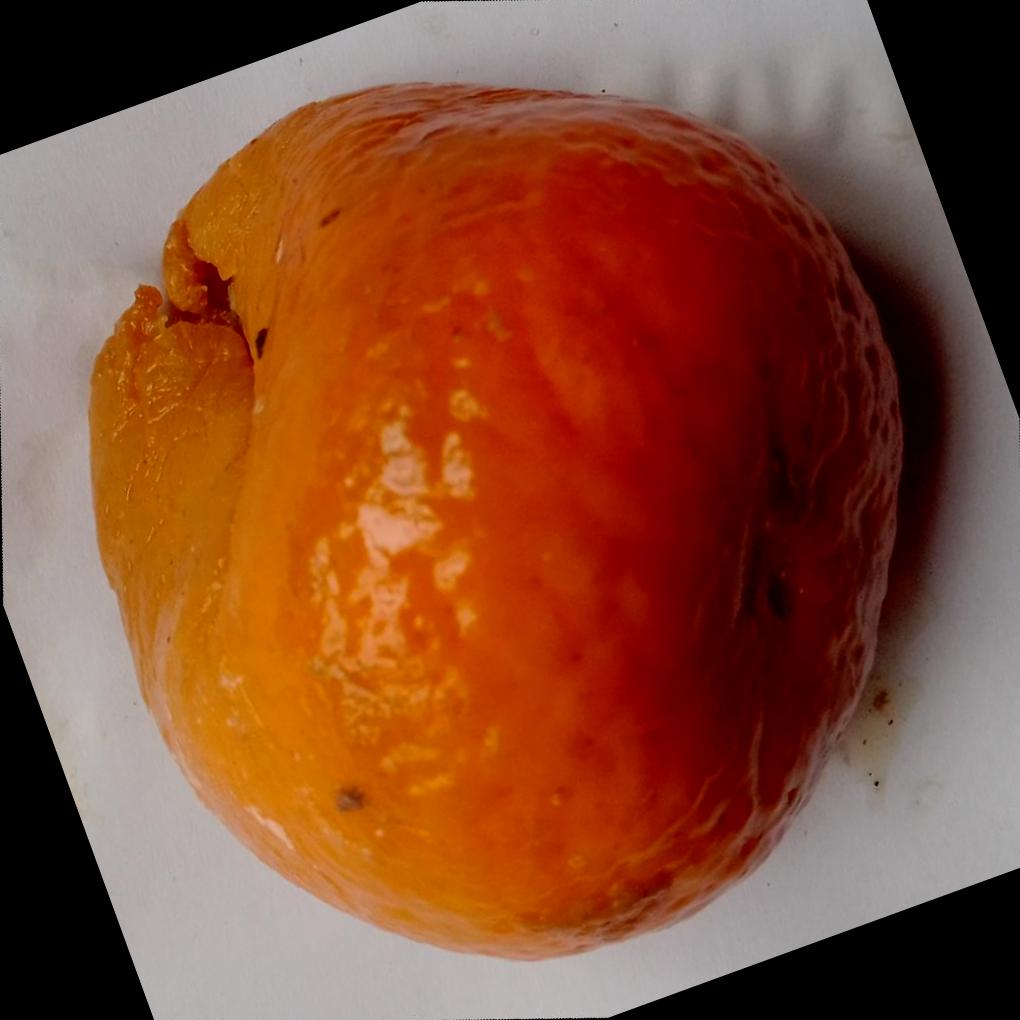FreshOrange: (84, 75, 907, 960)
